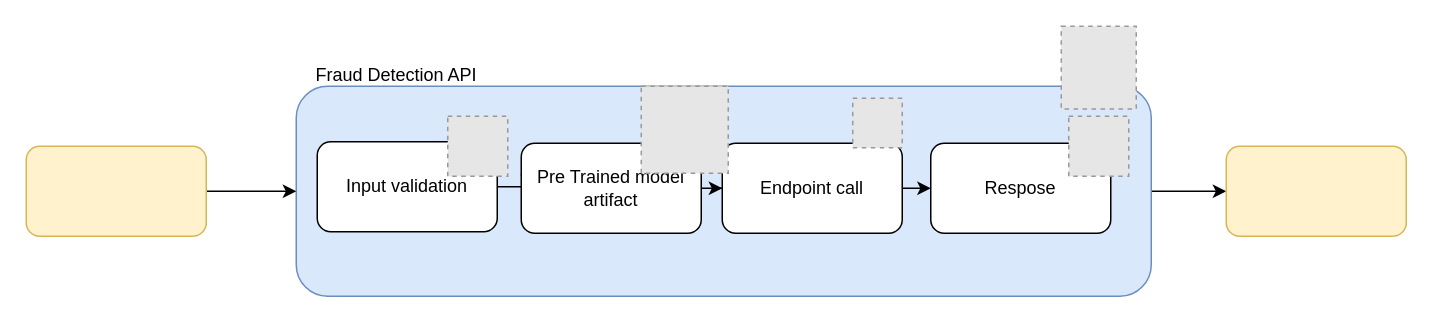
This 1433x323 diagram has some shape labels left out. Grey dashed boxes stand in for pictures. The shapes that lost their labels are listed below. From the top down, each one's centre as x and y in pixels, then its label:
the point at 115,190: HTTP/REST (JSON) Request
the point at 1315,190: HTTP/REST (JSON) Response
